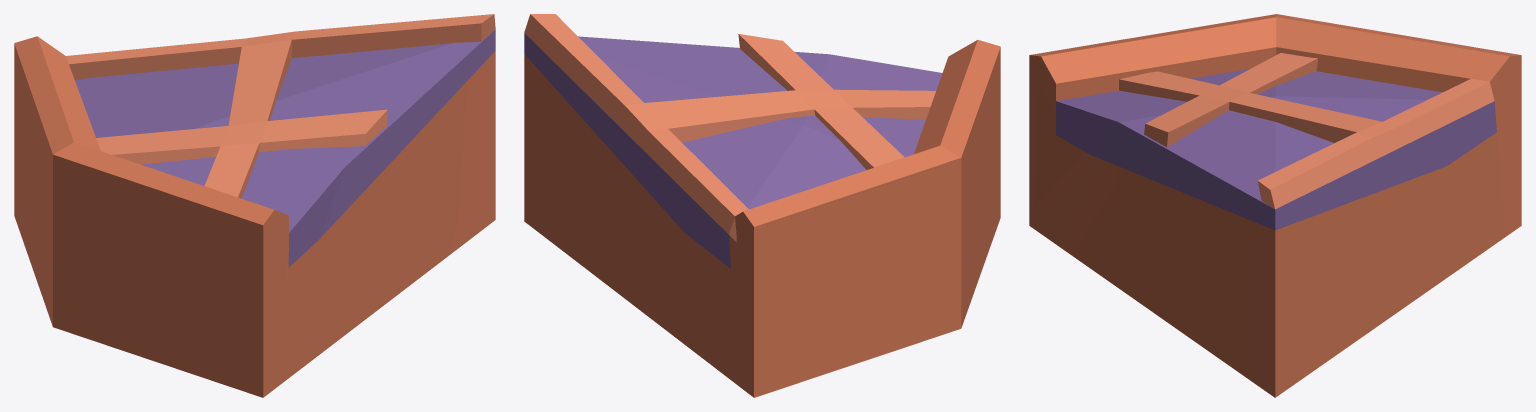
Rendered from SM_Food_Pie_02.fbx.
3 renders of one model, left to right at view 1: azimuth 30°, elevation 25°; view 2: azimuth 150°, elevation 25°; view 3: azimuth 270°, elevation 25°, orthographic.
Parts seen in each view (by area): view 1: SM_Food_Pie_02; view 2: SM_Food_Pie_02; view 3: SM_Food_Pie_02.
Boxes of the visible parts, <box> form: SM_Food_Pie_02: <box>14,14,495,397</box>; SM_Food_Pie_02: <box>524,14,1000,397</box>; SM_Food_Pie_02: <box>1029,14,1521,397</box>.
Bounding box in the file's own units: 0.1453 × 0.0655 × 0.1417.
